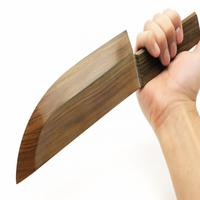knife: (13, 20, 145, 189)
